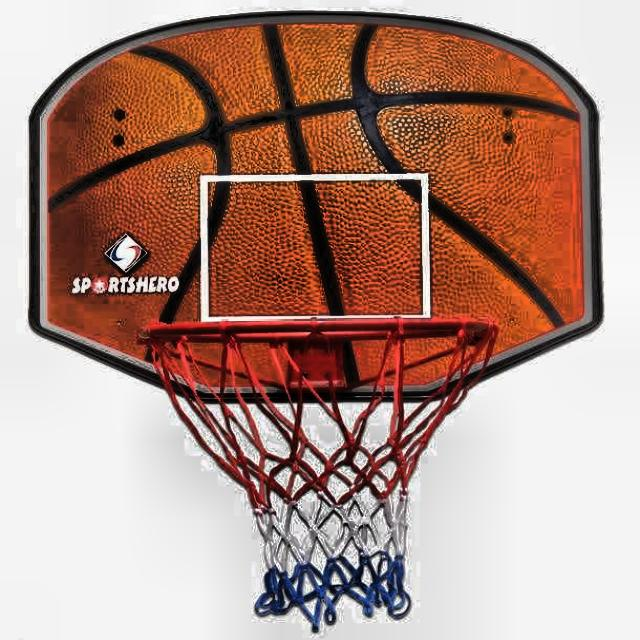rim: (143, 319, 504, 632)
